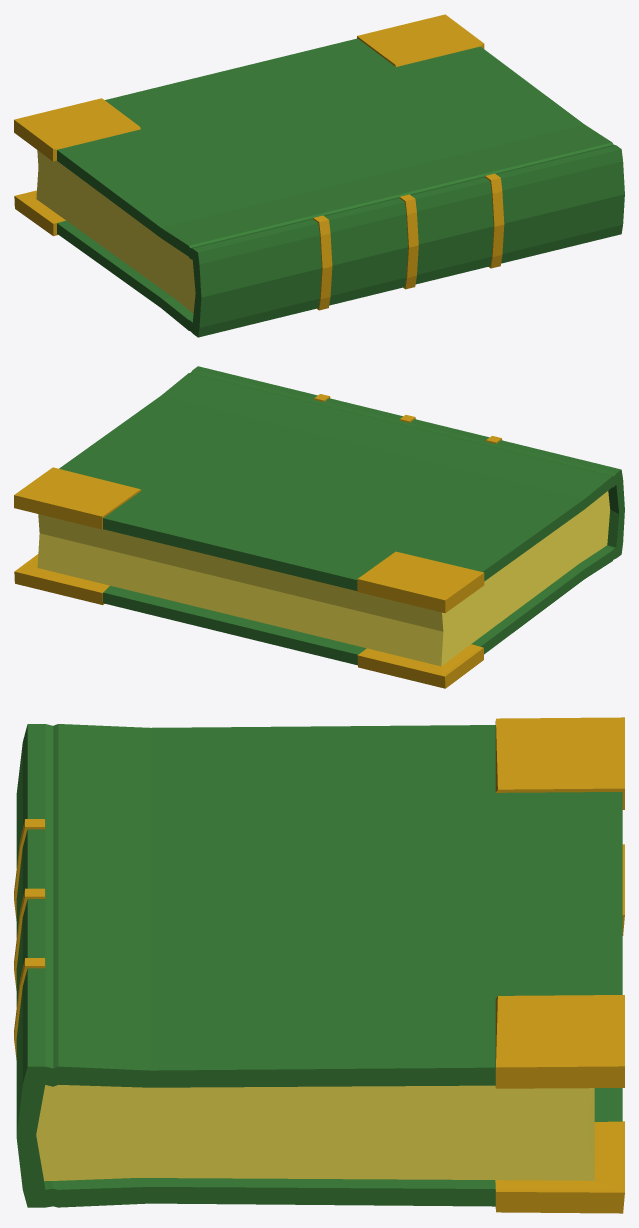
The model's file is Book.fbx.
3 renders of one model, top to bottom at view 1: azimuth 30°, elevation 25°; view 2: azimuth 150°, elevation 25°; view 3: azimuth 270°, elevation 25°, orthographic. The views are drawn at different scales.
Visible parts, largest first — view 1: book; view 2: book; view 3: book.
Part boxes in pixels (bbox=[...]): book: bbox=[14, 14, 624, 337]; book: bbox=[14, 366, 624, 688]; book: bbox=[14, 717, 624, 1213].
Size of the model in its own units: 427 by 84.18 by 316.
